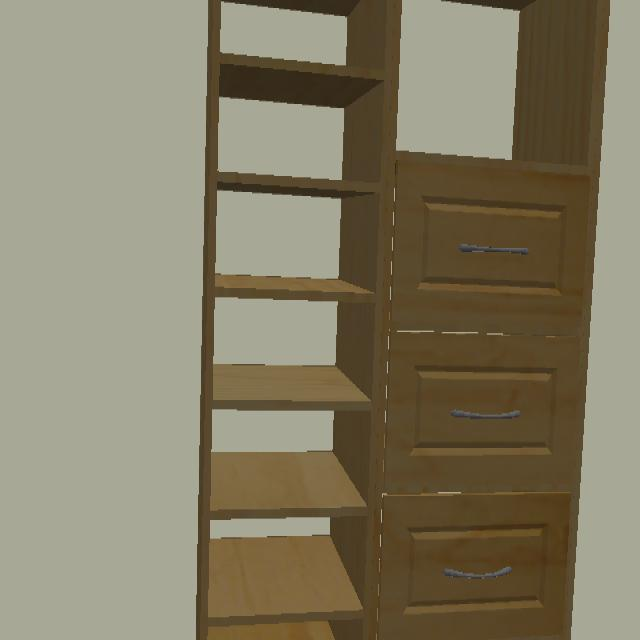bookshelf: (196, 0, 397, 640)
cabinet: (379, 153, 588, 640)
